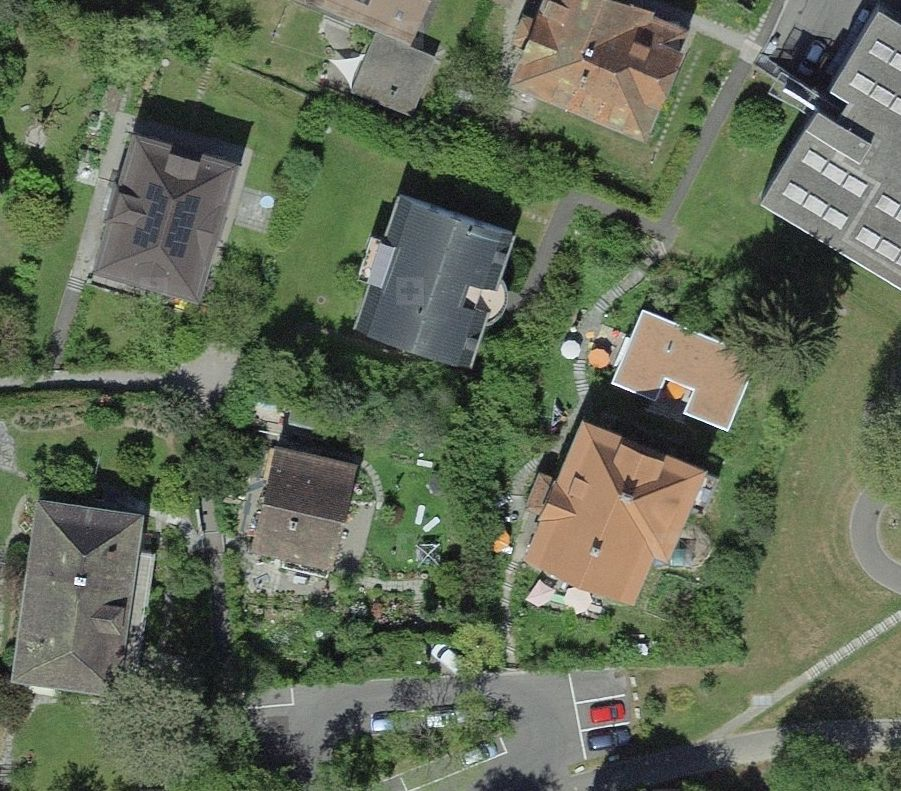solar: (129, 180, 200, 262)
